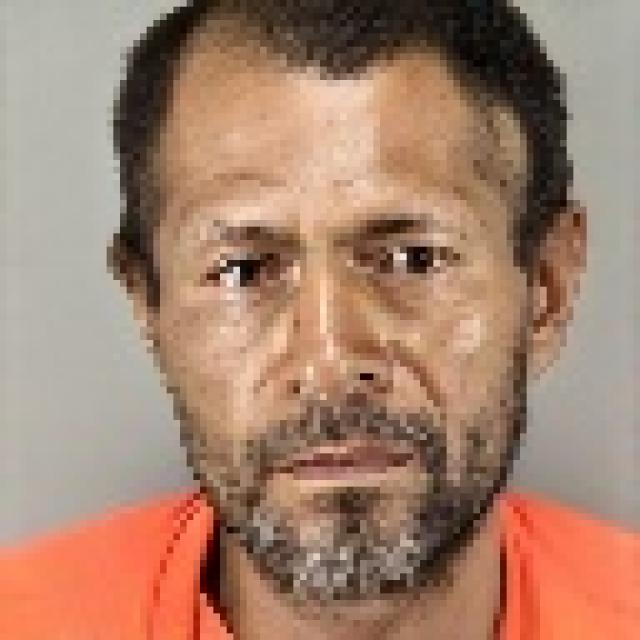sad: (103, 0, 616, 640)
